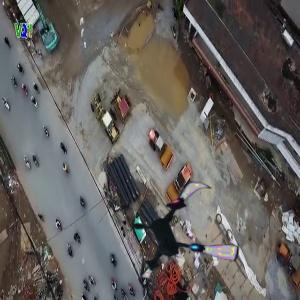drone: (125, 174, 243, 292)
